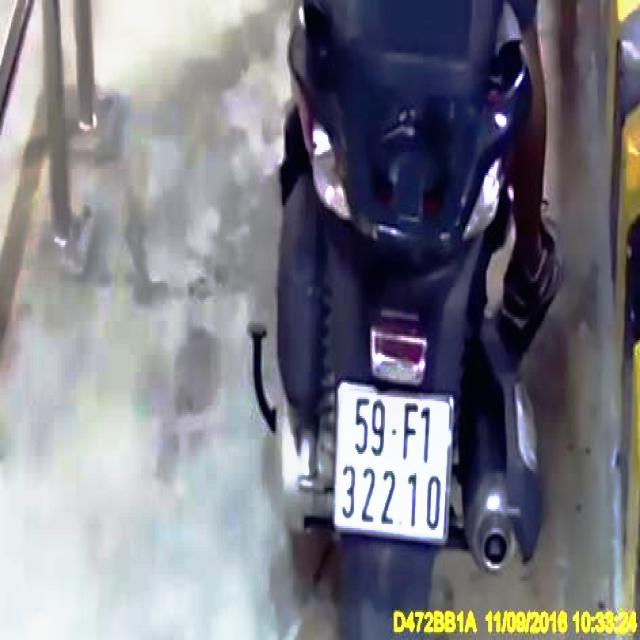license_plate: (334, 386, 453, 540)
